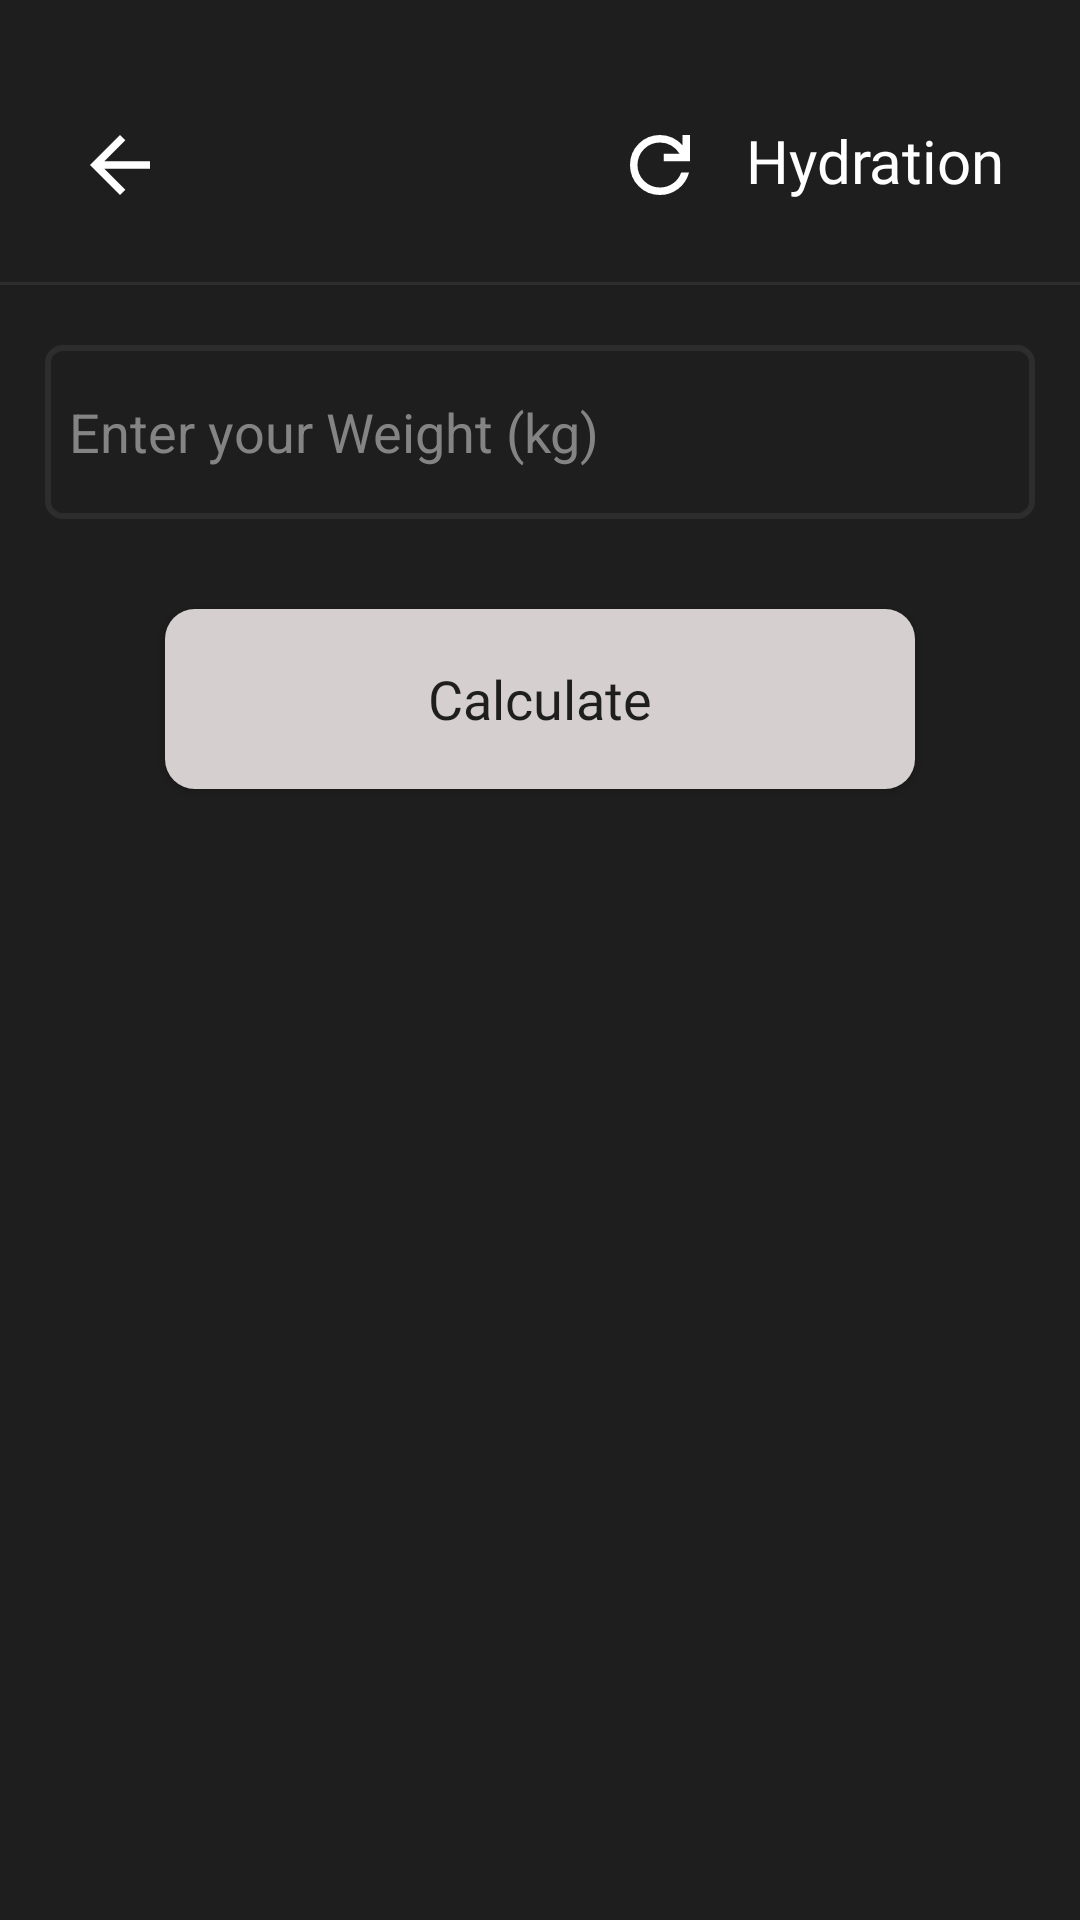

Icons on this 1080*1920 Android screen, each with its box as (x1, y1, x2, y2):
arrow back: (90, 135, 150, 195)
refresh: (630, 135, 690, 195)
